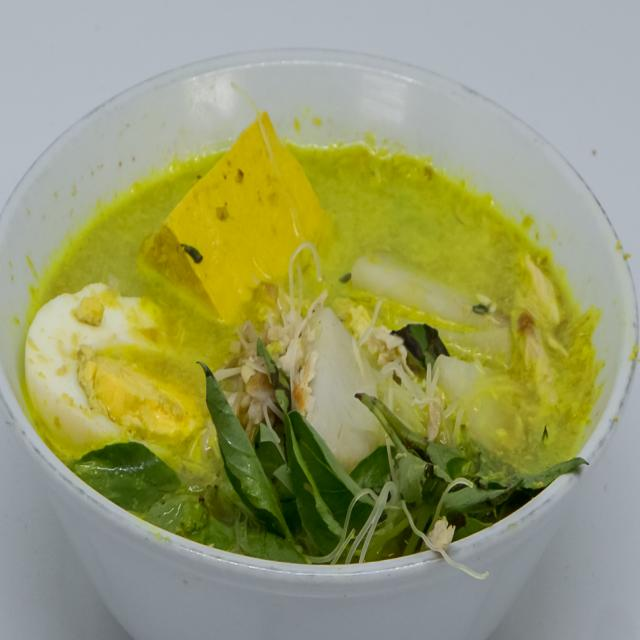Laksa-Bogor: (13, 92, 604, 576)
